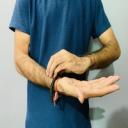hand: (52, 74, 120, 104), (47, 49, 89, 77)
